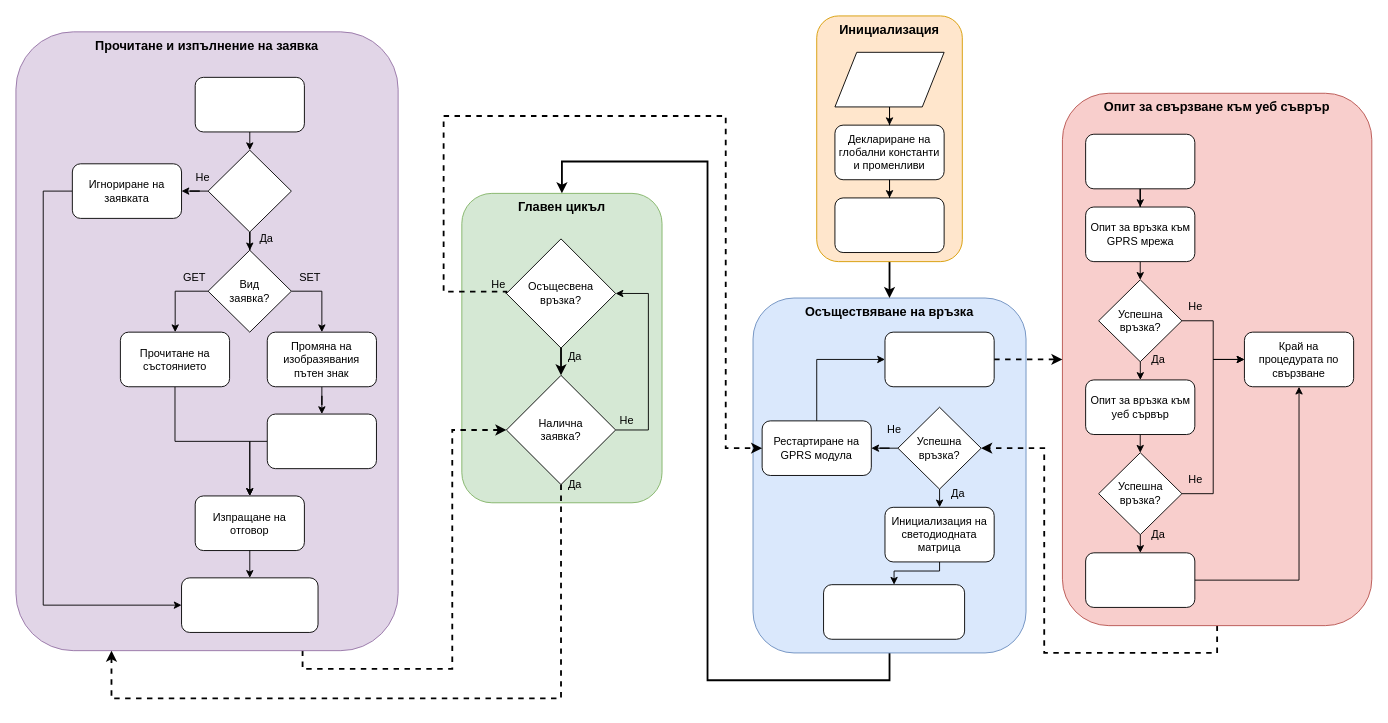
Some shapes in this 1388 by 723 pixel diagram are drawn without their labels. The centre of each missing label's shape, as x and y in pixels:
"Валидна заявка?" goes at (249,190).
"Изпращане на IMEI на уеб сървъра" goes at (1140,579).
"Инициализация на GPRS модула" goes at (1140,161).
"Инициализация на изводите на микроконтролера" goes at (889,225).
"Край на процедурата по осъществяване на връзка" goes at (894,611).
"Край на прочитането и изпълнението на заявка" goes at (249,604).
"Начало" goes at (889,79).
"Обновяване на състоянието" goes at (321,441).
"Опит за свързване към уеб сървъра" goes at (939,359).
"Прочитане на наличната заявка" goes at (249,104).
